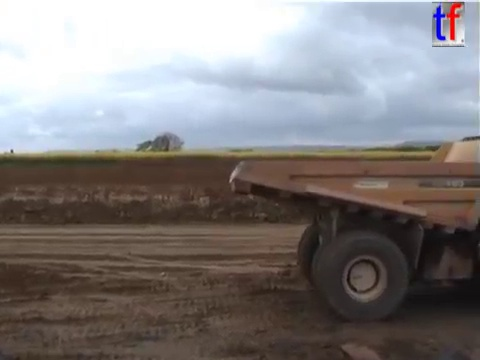truck: (226, 135, 480, 325)
